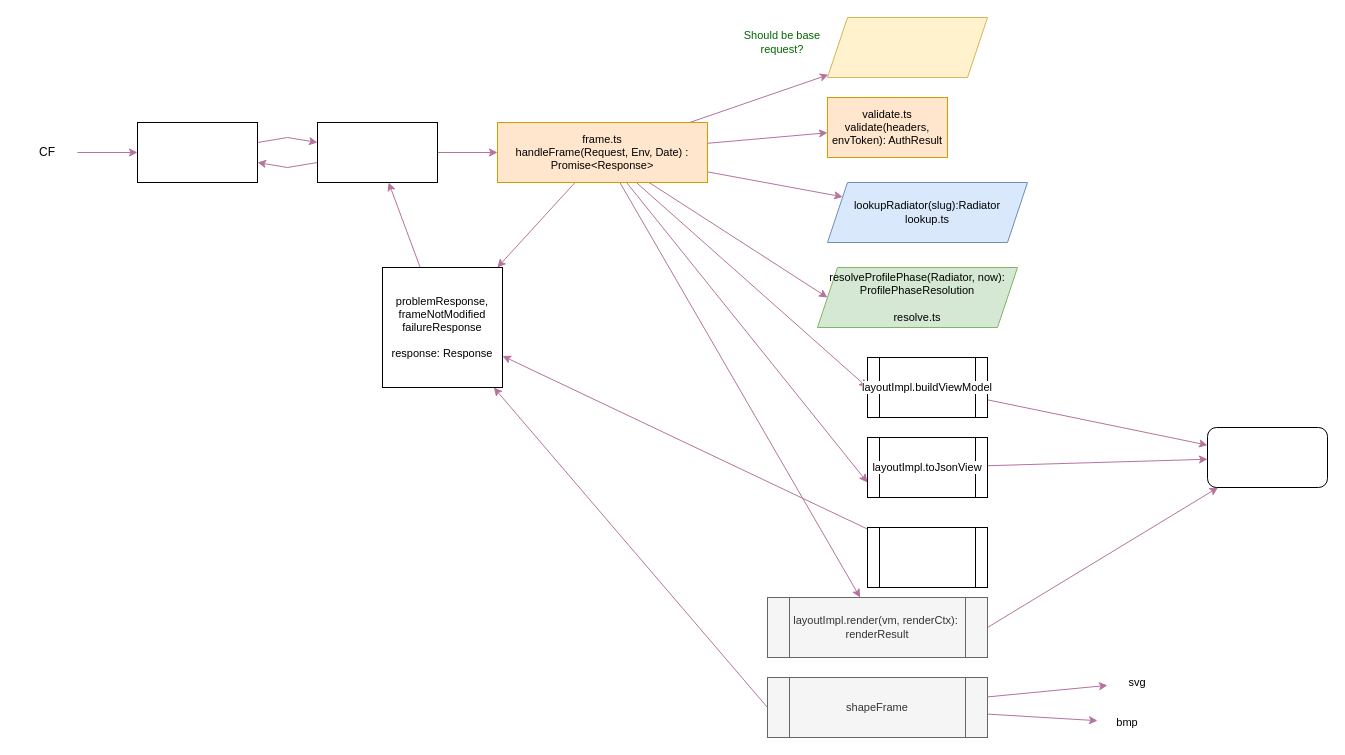
This 1345x755 diagram has some shape labels left out. The centre of each missing label's shape, as x and y in pixels:
"index.ts fetch(request, env)" goes at [197,152].
"isunchanged" goes at [927,557].
"parseFrameRequest: FrameRequest (reads headers)" goes at [907,47].
"router.ts route(Request, Env, now)" goes at [377,152].
"Service.layout" goes at [1267,457].
